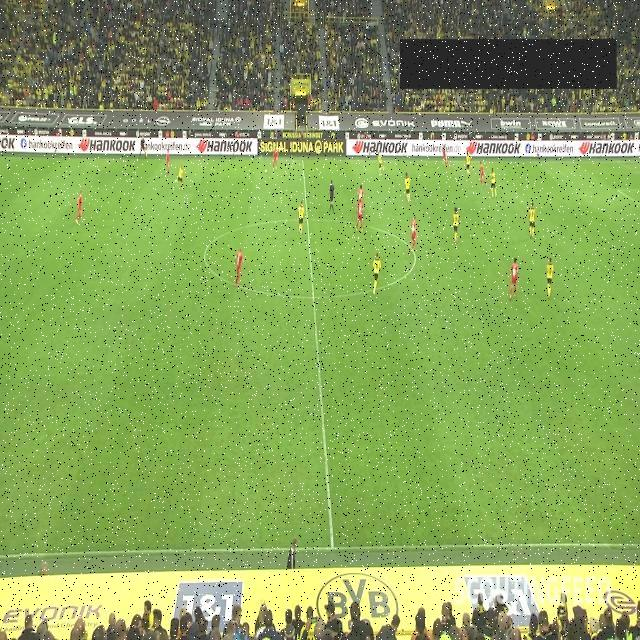Ball: (264, 168, 268, 176)
Referee: (328, 180, 335, 213), (138, 136, 148, 158)
TEAM 1: (509, 256, 519, 300), (234, 247, 244, 287), (74, 190, 84, 224), (410, 216, 418, 252), (356, 198, 364, 232), (479, 161, 487, 187), (442, 144, 449, 168), (272, 147, 278, 171), (358, 184, 364, 202), (166, 150, 170, 174)
TEAM 2: (372, 252, 382, 296), (546, 256, 554, 300), (528, 200, 536, 240), (173, 164, 184, 192), (452, 206, 460, 244), (490, 166, 498, 198), (404, 172, 412, 202), (298, 200, 304, 234), (378, 153, 384, 176), (466, 149, 470, 175)
